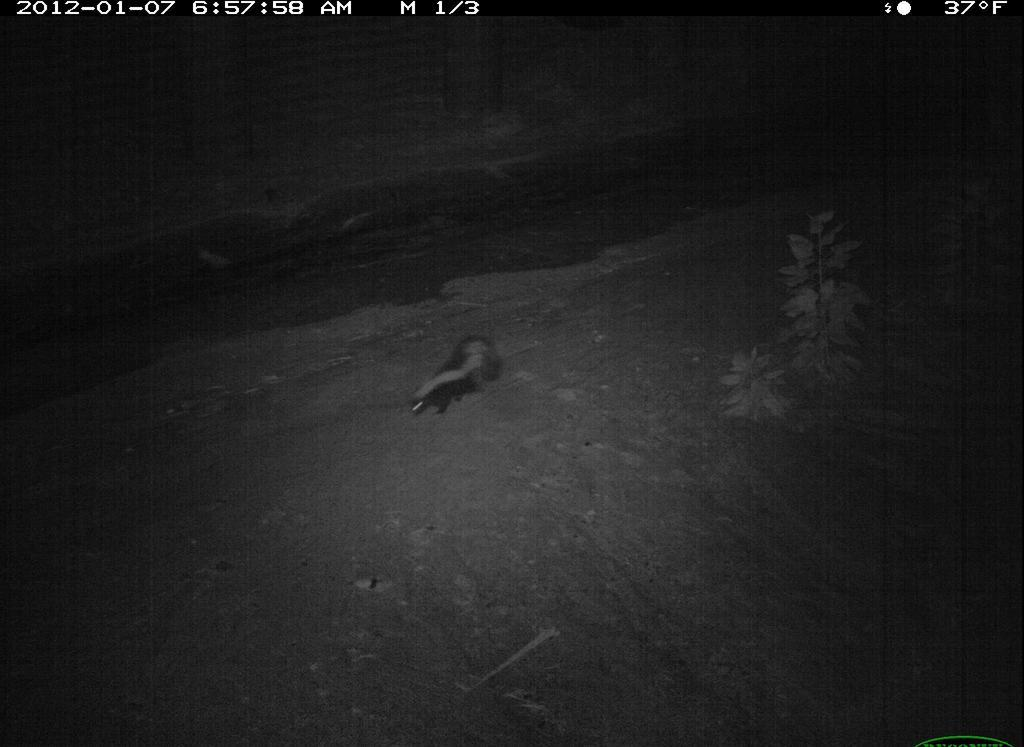skunk: (395, 323, 519, 433)
